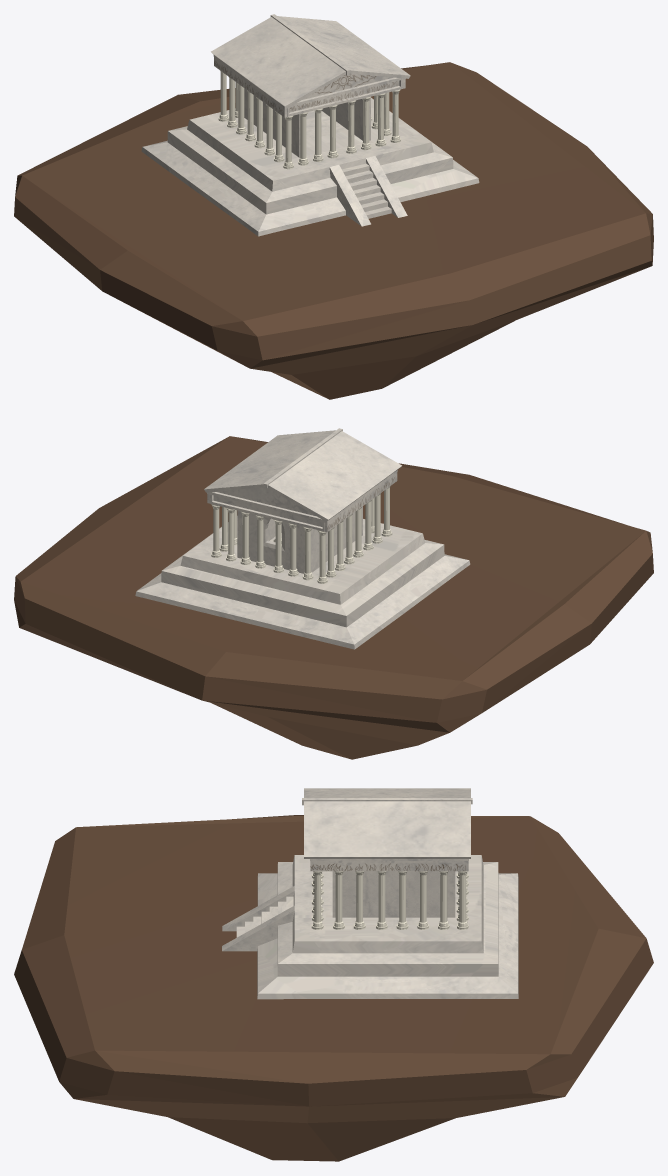
Rendered from badend-land.fbx.
3 views of the same model, one above another, from view 1: azimuth 30°, elevation 25°; view 2: azimuth 150°, elevation 25°; view 3: azimuth 270°, elevation 25° (orthographic). The views are drawn at different scales.
Parts seen in each view (by area): view 1: Tikei, Temple1, Pillar2; view 2: Tikei, Temple1, Pillar2; view 3: Tikei, Temple1, Pillar2.
Boxes of the visible parts, x1,y1,x2,y2 form: Tikei: [14, 62, 653, 399]; Temple1: [141, 14, 479, 236]; Pillar2: [218, 70, 400, 169]; Tikei: [14, 436, 653, 759]; Temple1: [135, 428, 470, 649]; Pillar2: [211, 486, 392, 583]; Tikei: [14, 815, 653, 1161]; Temple1: [222, 788, 518, 999]; Pillar2: [311, 871, 468, 929].
Size of the model in its own units: 5802 by 3530 by 5841.
